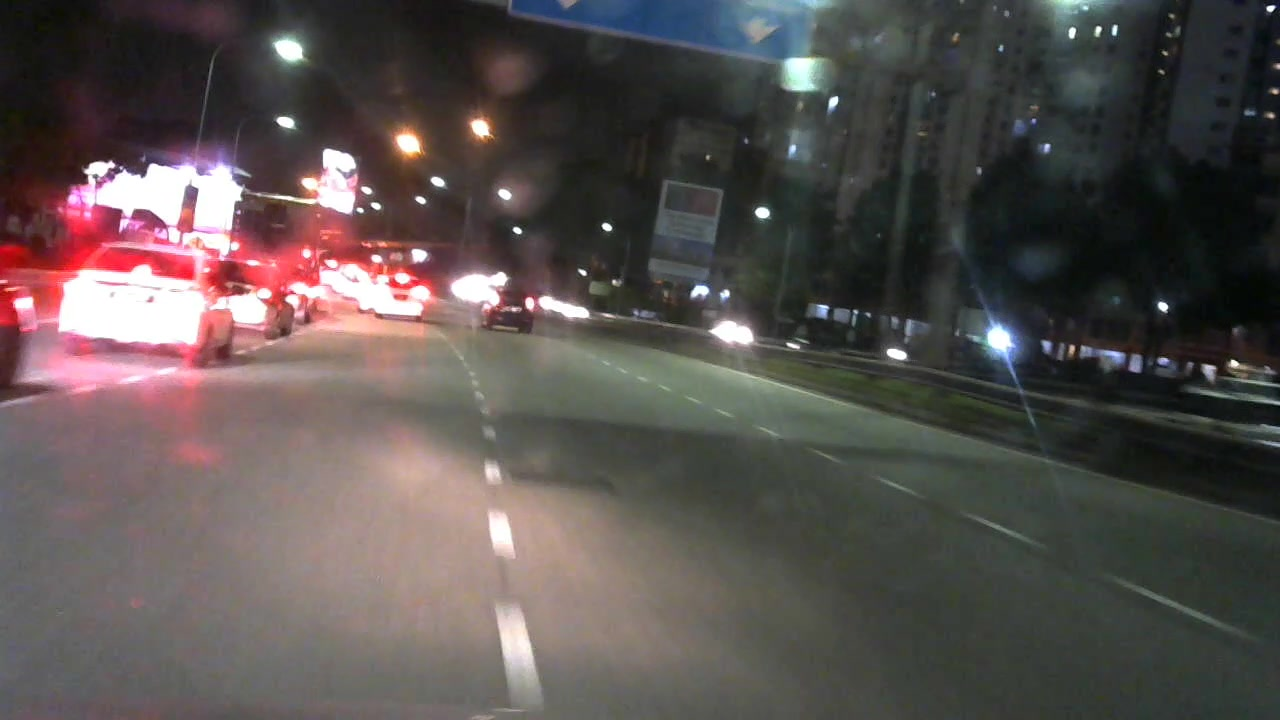Car: (59, 238, 239, 365), (215, 254, 298, 340), (366, 268, 433, 334), (474, 283, 544, 342)
